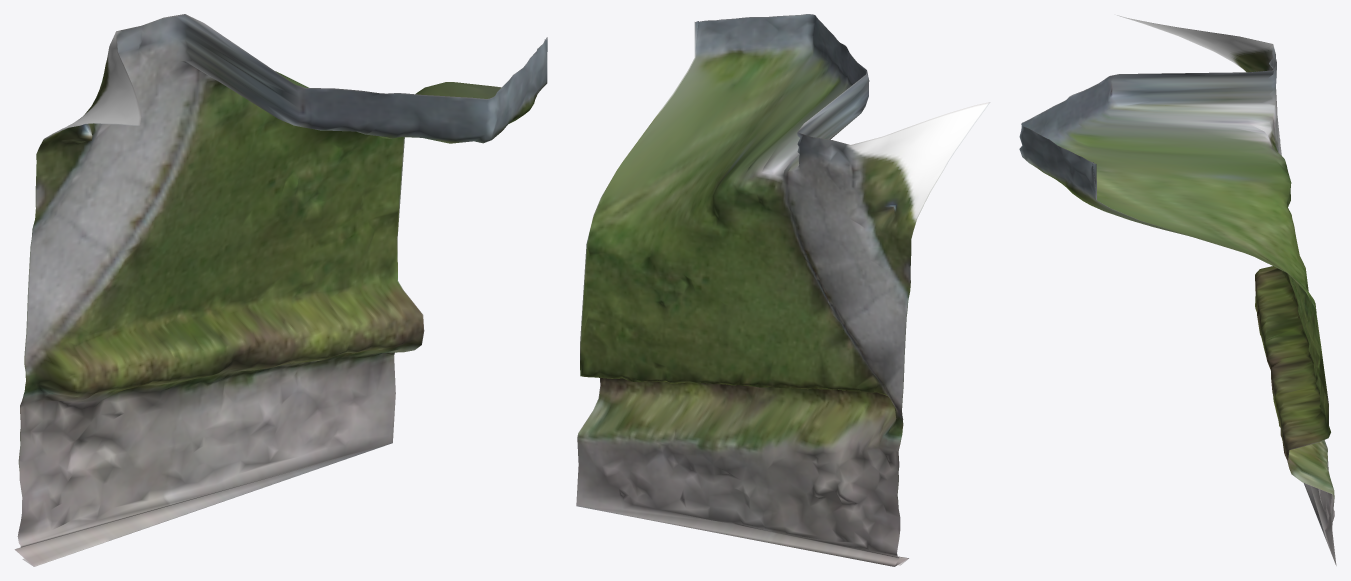
Rendered from map_0_100.obj.
3 renders of one model, left to right at view 1: azimuth 30°, elevation 25°; view 2: azimuth 150°, elevation 25°; view 3: azimuth 270°, elevation 25°, orthographic. The views are drawn at different scales.
Visible parts, largest first — view 1: map_0_100.obj; view 2: map_0_100.obj; view 3: map_0_100.obj.
Boxes of the visible parts, x1,y1,x2,y2 form: map_0_100.obj: (14, 14, 547, 566); map_0_100.obj: (576, 14, 990, 566); map_0_100.obj: (1019, 15, 1336, 565).
Size of the model in its own units: 8 by 10 by 7.14.
1 material, 1 textured.
